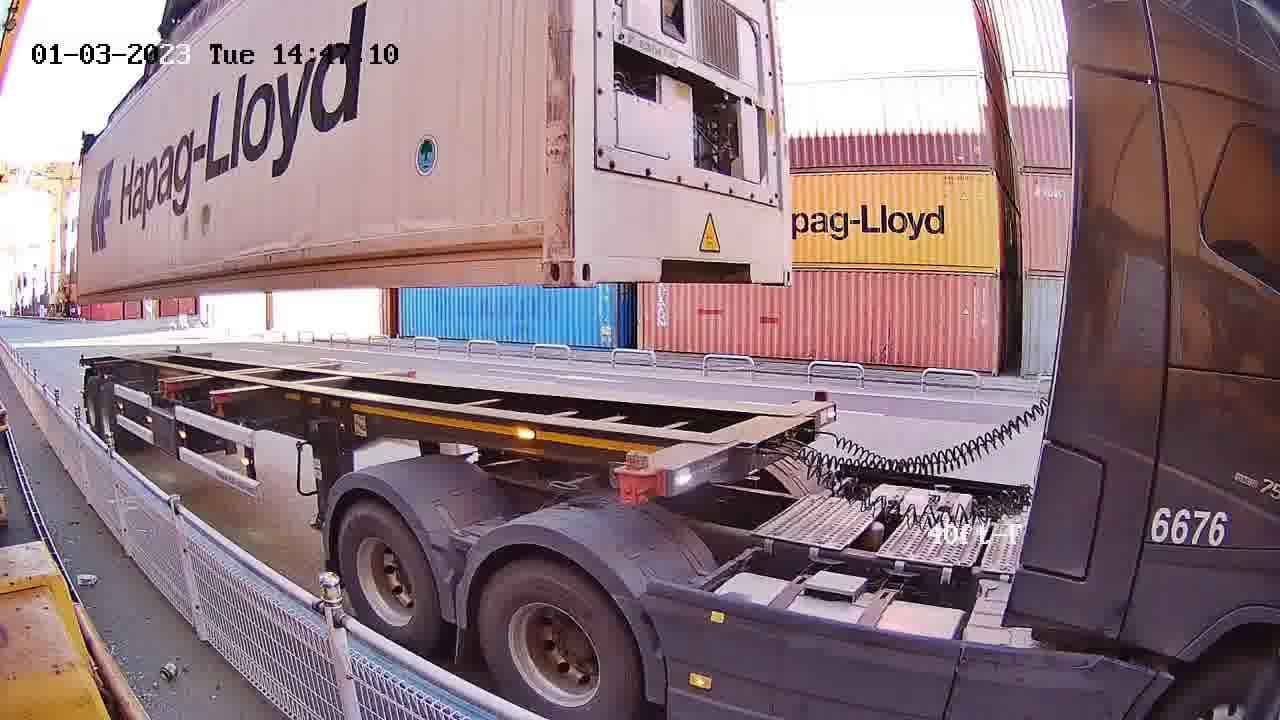Chassis: (615, 400, 833, 503)
Cone: (615, 449, 657, 506), (810, 385, 830, 405)
Hole_L: (570, 233, 623, 286)
Hole_R: (513, 234, 571, 288), (768, 256, 792, 286)
Tire: (478, 560, 638, 719), (336, 504, 436, 653)
